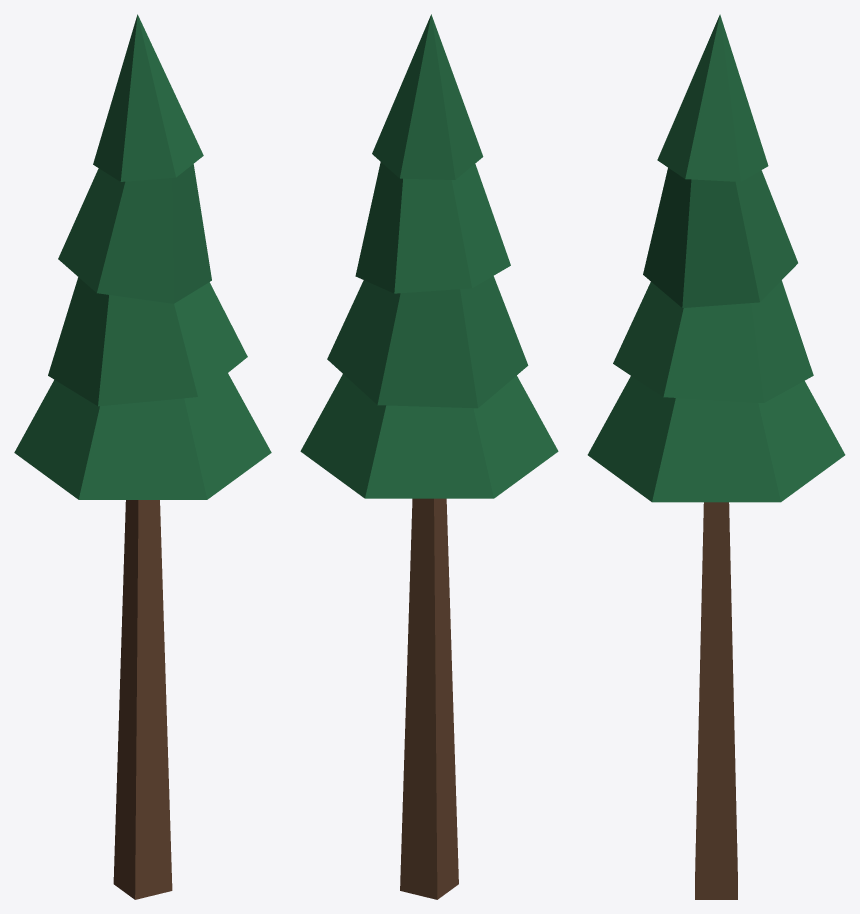
The model's file is nk_pinetall_d.glb.
3 renders of one model, left to right at view 1: azimuth 30°, elevation 25°; view 2: azimuth 150°, elevation 25°; view 3: azimuth 270°, elevation 25°, orthographic.
Parts seen in each view (by area): view 1: tree_pineTallD; view 2: tree_pineTallD; view 3: tree_pineTallD.
Part boxes in pixels (box(x1,y1,x2,y2)): tree_pineTallD: box(14, 14, 271, 899); tree_pineTallD: box(300, 14, 558, 899); tree_pineTallD: box(587, 14, 845, 899).
Bounding box in the file's own units: 2.55 × 11 × 2.94.
